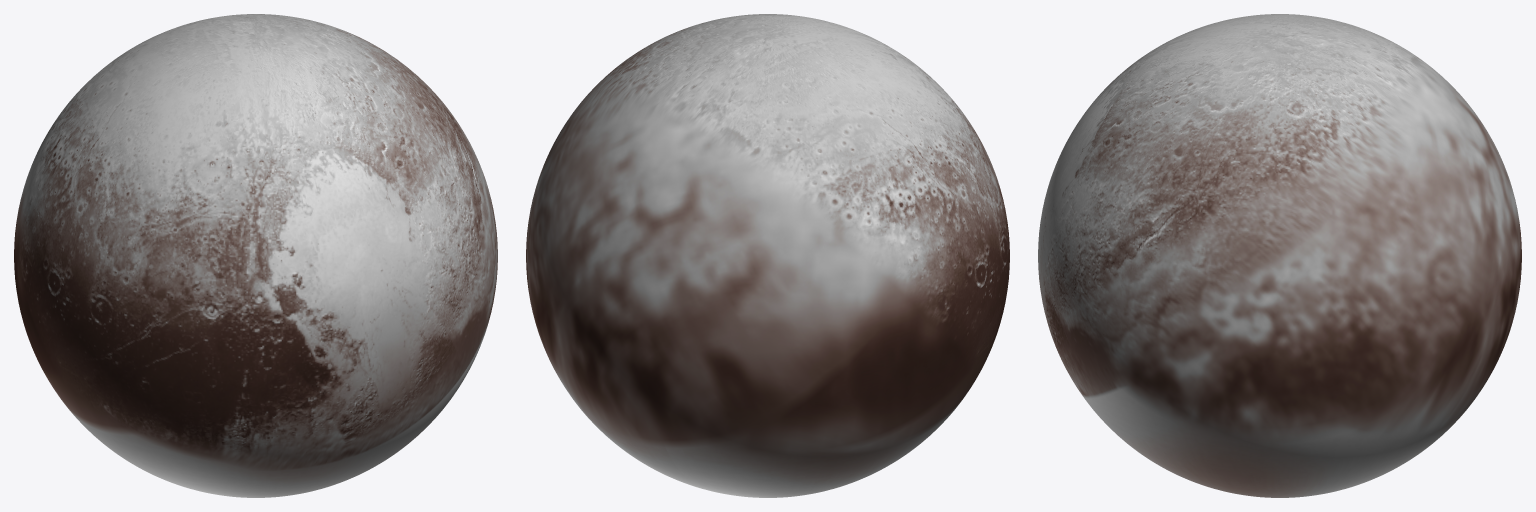
File: PlutoModel.obj
3 renders of one model, left to right at view 1: azimuth 30°, elevation 25°; view 2: azimuth 150°, elevation 25°; view 3: azimuth 270°, elevation 25°, orthographic.
Visible parts, largest first — view 1: obj1; view 2: obj1; view 3: obj1.
Boxes of the visible parts, x1,y1,x2,y2 form: obj1: (14, 14, 497, 497); obj1: (526, 14, 1009, 497); obj1: (1038, 14, 1521, 497).
Bounding box in the file's own units: 1 × 1 × 1.
